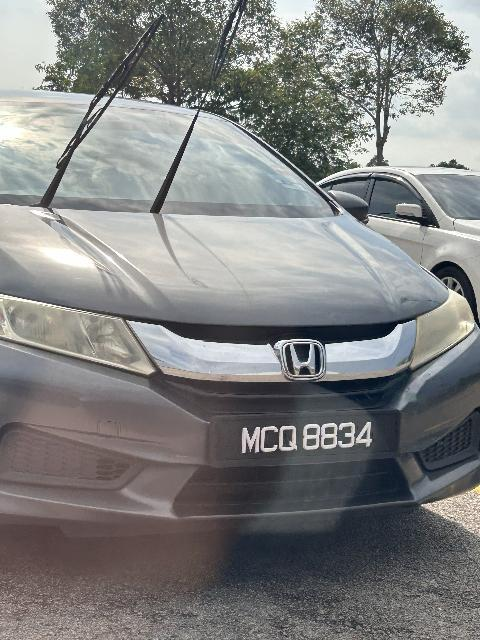License_Plate: (216, 415, 402, 464)
MCQ8834: (216, 415, 402, 464)
car: (1, 78, 480, 543)
